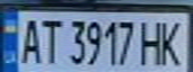1: (103, 17, 121, 65)
3: (63, 16, 87, 65)
7: (115, 18, 139, 65)
9: (81, 17, 103, 66)
A: (15, 16, 45, 65)
H: (136, 17, 166, 66)
K: (154, 16, 190, 66)
T: (36, 16, 63, 65)
